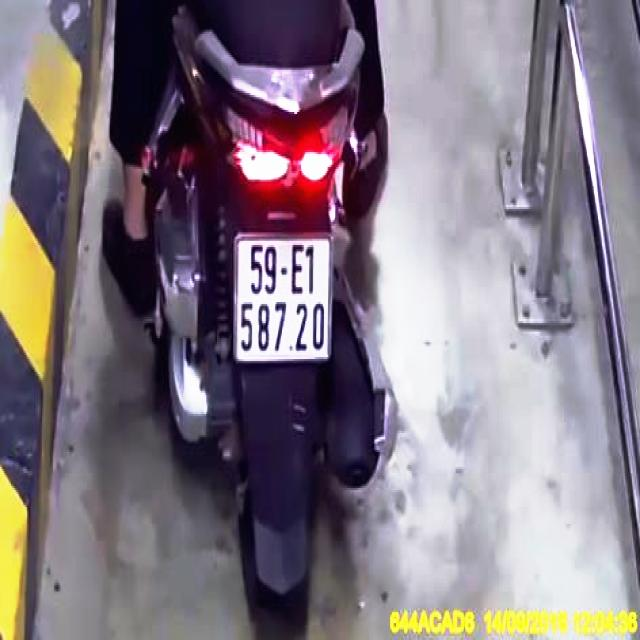license_plate: (239, 234, 333, 364)
